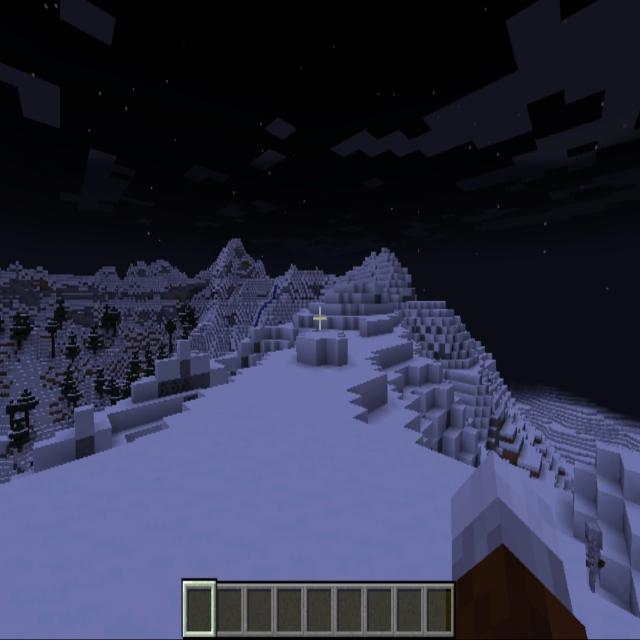Skeleton: (582, 514, 602, 596)
